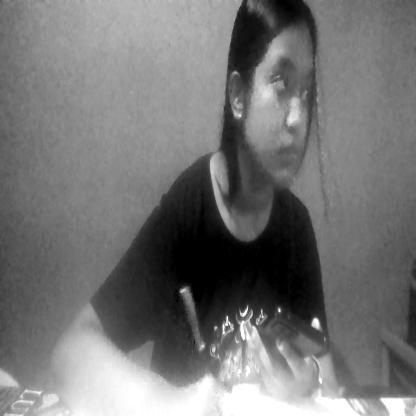Distracted: (242, 14, 321, 180)
